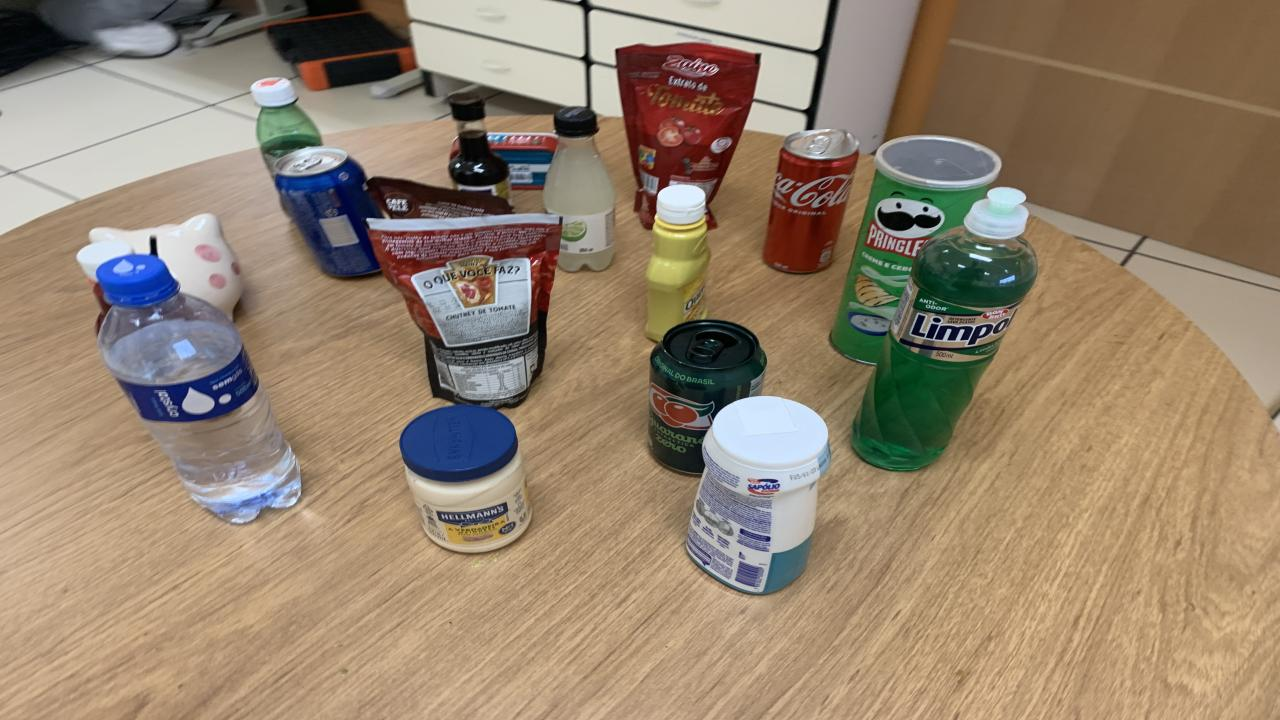Cleaner-Cleanup_Items: (688, 396, 830, 594)
Coffee-Pantry_Items: (365, 176, 512, 219)
Coke-Drinks: (762, 129, 860, 274)
Detergent-Cleanup_Items: (852, 188, 1038, 471)
English_Sauce-Pantry_Items: (448, 92, 510, 201)
Guarana-Drinks: (250, 77, 322, 174)
Guarana_Can-Drinks: (648, 319, 768, 474)
Ketchup-Pantry_Items: (75, 240, 132, 334)
Mayonnaise-Pantry_Items: (400, 405, 532, 553)
Mustard-Pantry_Items: (645, 186, 710, 341)
Pig_Safe-Miscellaneous: (90, 214, 245, 317)
Pringles-Snacks: (830, 135, 1000, 364)
Soda-Drinks: (542, 107, 615, 272)
Tomato_Sauce-Pantry_Items: (368, 214, 560, 405), (615, 43, 760, 227)
Tonic-Drinks: (275, 146, 380, 276)
Tuna_Can-Pantry_Items: (488, 133, 558, 189)
Water_Bottle-Drinks: (98, 255, 300, 523)
